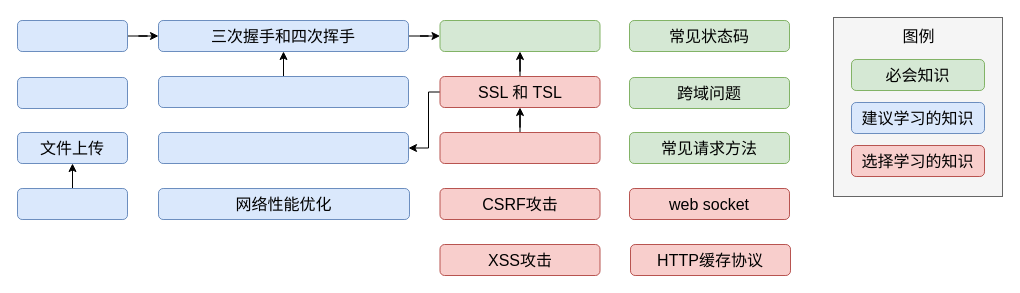
Image size: 1020x293. Some labels were removed from this diagram. The centre of each missing label's shape, as x and y in pixels:
"HTTP2" goes at (72,36).
"HTTPS" goes at (519,148).
"keep-alive" goes at (72,92).
"五层网络模型" goes at (519,36).
"对称加密和非对称加密" goes at (283,148).
"断点续传" goes at (72,204).
"浏览器的TCP连接数限制" goes at (283,92).
